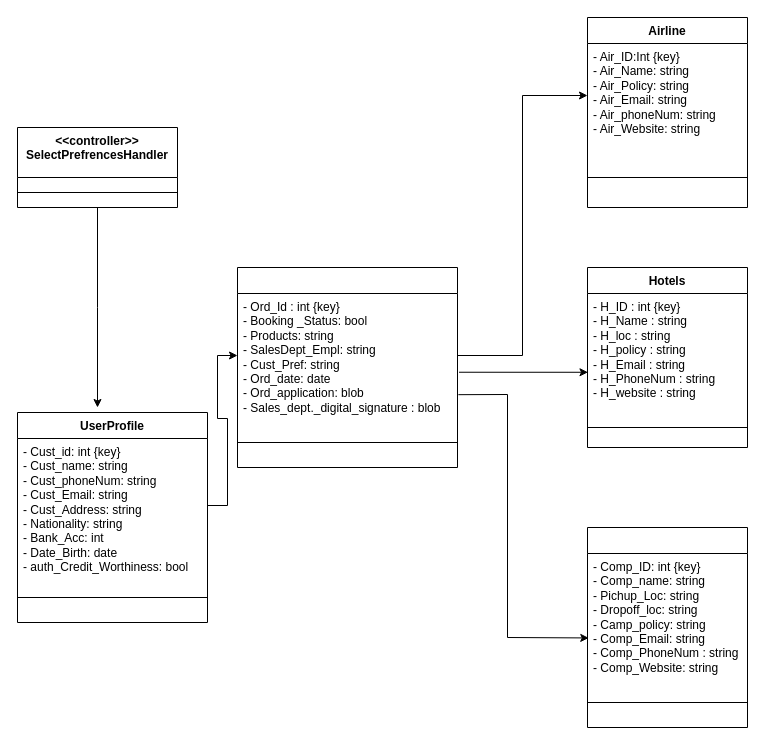
Some shapes in this 765 by 745 pixel diagram are drawn without their labels. Each missing label, with the box of its shape:
Car_comp: (586, 526, 748, 728)
Order: (236, 266, 458, 468)
